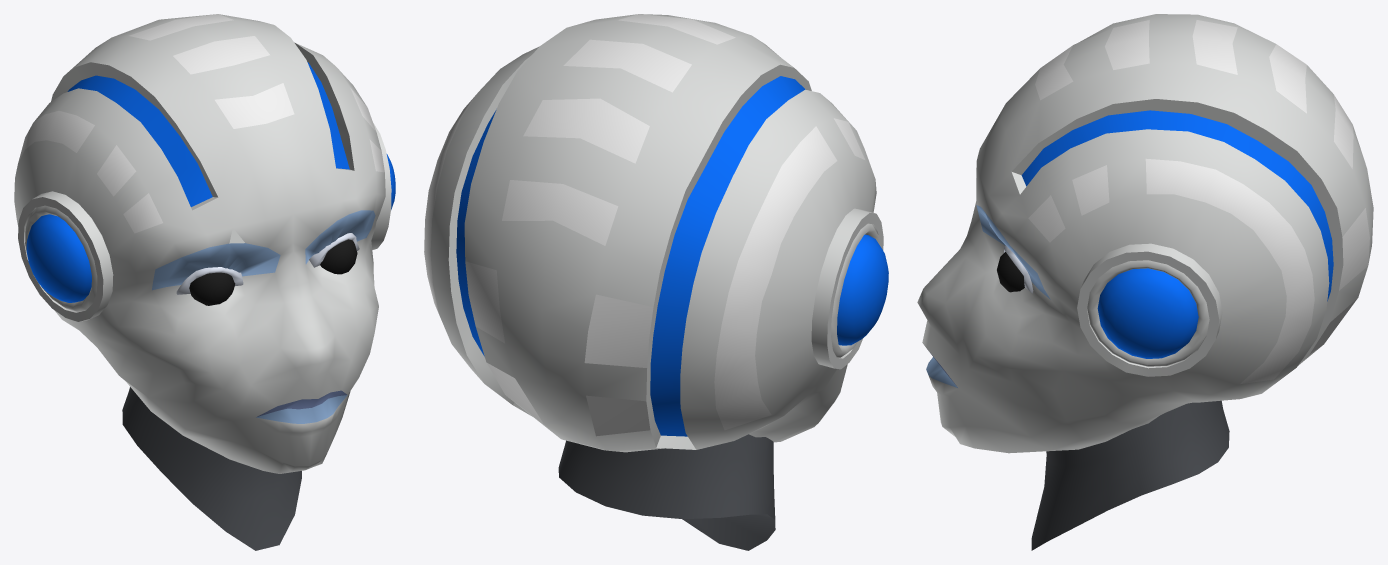
Rendered from avatarHead.fbx.
3 views of the same model, side by side, from view 1: azimuth 30°, elevation 25°; view 2: azimuth 150°, elevation 25°; view 3: azimuth 270°, elevation 25° (orthographic). The views are drawn at different scales.
Parts seen in each view (by area): view 1: avatarHeadGlass, avatarRightEye, avatarRightEye001, meshEyeRight; view 2: avatarHeadGlass; view 3: avatarHeadGlass, avatarRightEye001.
Boxes of the visible parts, x1=… form: avatarHeadGlass: x1=14, y1=14, x2=395, y2=550; avatarRightEye: x1=189, y1=272, x2=235, y2=305; avatarRightEye001: x1=320, y1=239, x2=357, y2=274; meshEyeRight: x1=176, y1=267, x2=243, y2=294; avatarHeadGlass: x1=424, y1=14, x2=888, y2=550; avatarHeadGlass: x1=917, y1=14, x2=1373, y2=550; avatarRightEye001: x1=997, y1=252, x2=1024, y2=292.
Bounding box in the file's own units: 37.73 × 48.02 × 39.04.
